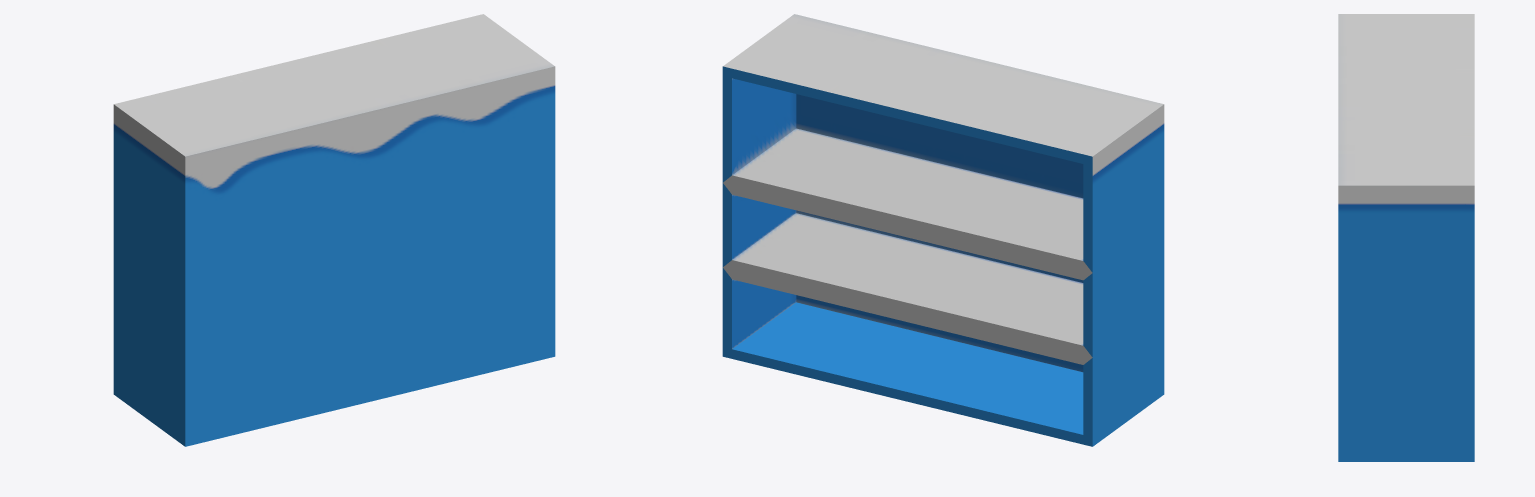
The model's file is bar_counter.DAE.
3 views of the same model, side by side, from view 1: azimuth 30°, elevation 25°; view 2: azimuth 150°, elevation 25°; view 3: azimuth 270°, elevation 25° (orthographic). The views are drawn at different scales.
Visible parts, largest first — view 1: bar_counter; view 2: bar_counter; view 3: bar_counter.
Part boxes in pixels (bbox=[...]): bar_counter: bbox=[113, 14, 555, 446]; bar_counter: bbox=[722, 14, 1164, 446]; bar_counter: bbox=[1338, 14, 1474, 461].
Size of the model in its own units: 1590 by 675 by 900.
Materials: 2 (2 with a texture image).
